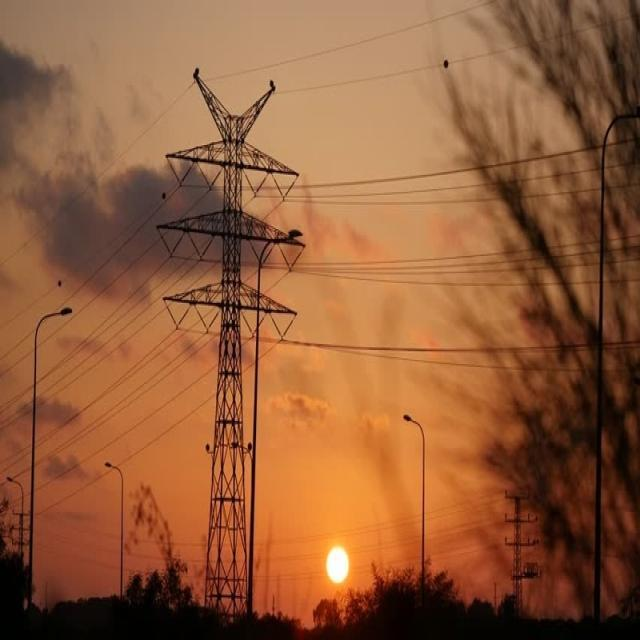non-critical vegetation: (158, 51, 294, 622)
